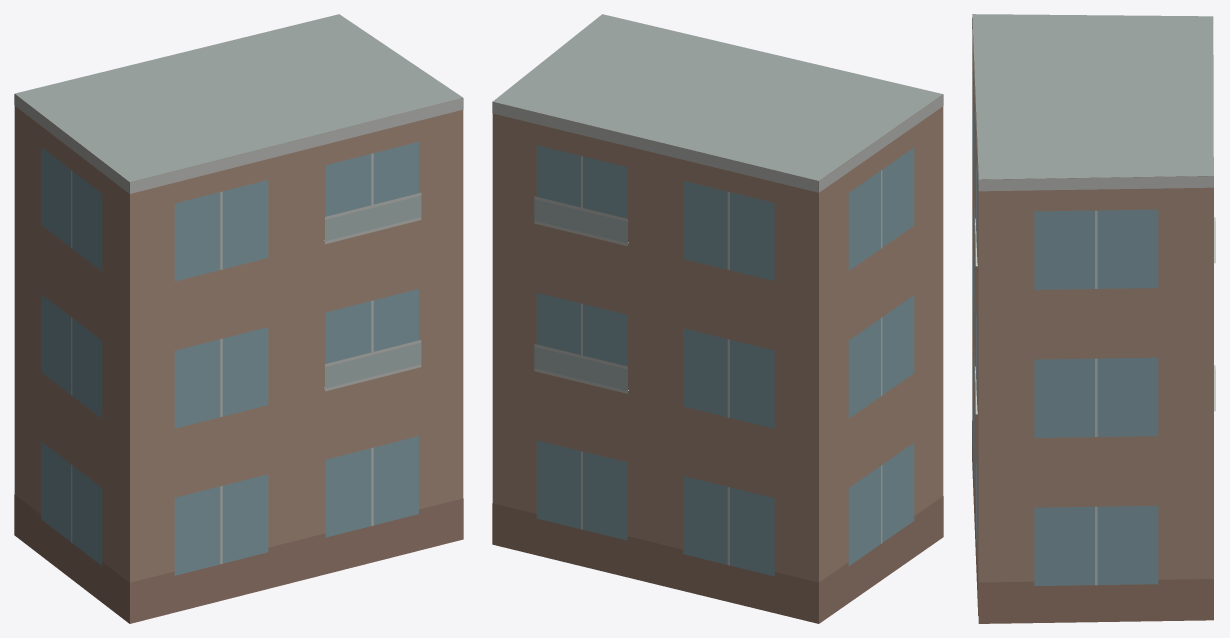
The model's file is survey-upis-32782442.glb.
3 views of the same model, side by side, from view 1: azimuth 30°, elevation 25°; view 2: azimuth 150°, elevation 25°; view 3: azimuth 270°, elevation 25° (orthographic).
Visible parts, largest first — view 1: survey-upis-32782442.tmp; view 2: survey-upis-32782442.tmp; view 3: survey-upis-32782442.tmp.
Part boxes in pixels (x1,y1,x2,y2): survey-upis-32782442.tmp: (14,14,463,623); survey-upis-32782442.tmp: (492,14,943,623); survey-upis-32782442.tmp: (972,14,1215,623).
Size of the model in its own units: 7.32 by 9.15 by 4.55.
